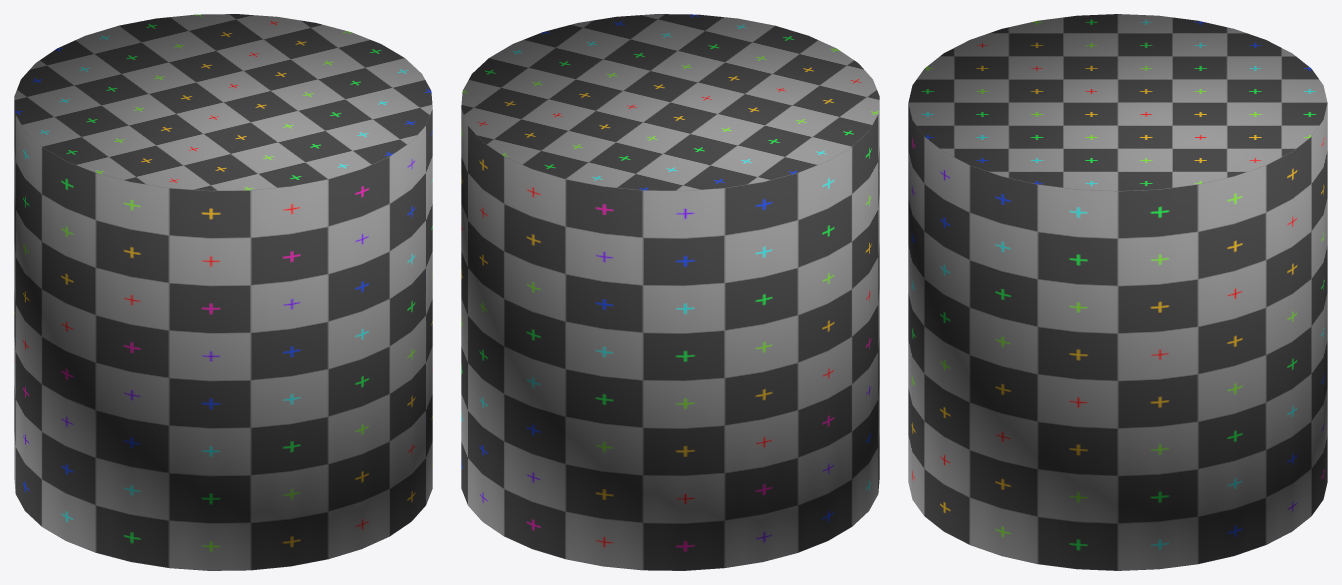
3 renders of one model, left to right at view 1: azimuth 30°, elevation 25°; view 2: azimuth 150°, elevation 25°; view 3: azimuth 270°, elevation 25°, orthographic.
Parts seen in each view (by area): view 1: Cylinder; view 2: Cylinder; view 3: Cylinder.
Boxes of the visible parts, left/top/right/bottom form: Cylinder: left=14, top=14, right=432, bottom=570; Cylinder: left=461, top=14, right=879, bottom=570; Cylinder: left=908, top=14, right=1327, bottom=570.
Bounding box in the file's own units: 2 × 2 × 2.
Materials: 1 (1 with a texture image).
